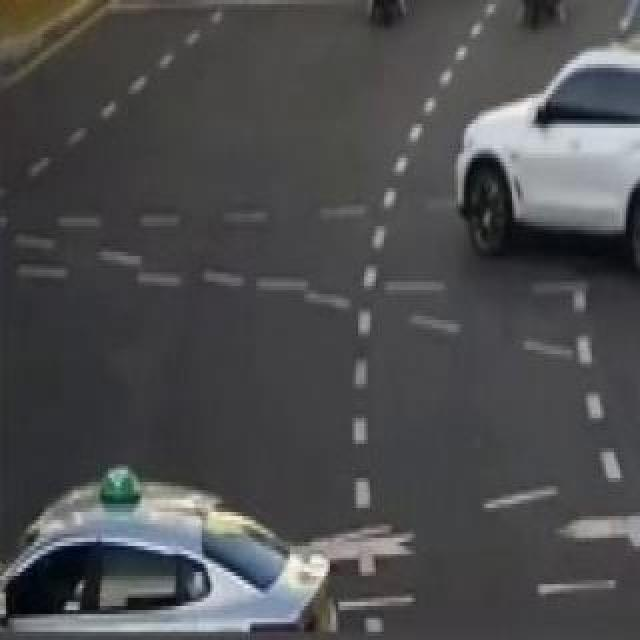motorbike: (364, 0, 408, 30), (518, 0, 564, 20)
